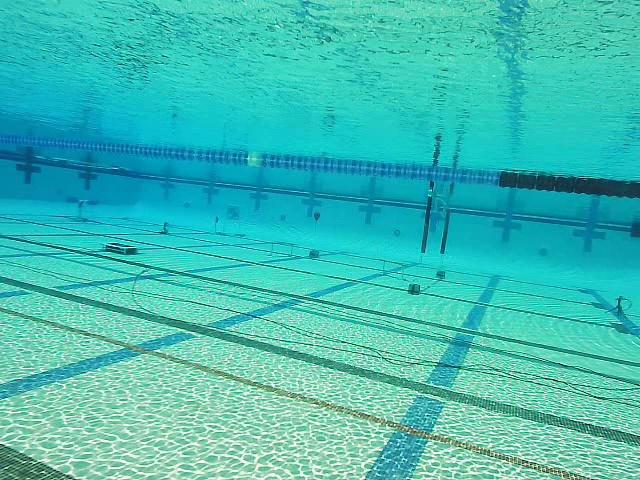dropper: (101, 239, 138, 257)
gate_leg_l: (420, 178, 434, 253)
gate_leg_r: (440, 209, 450, 254)
torpedo: (226, 203, 240, 221)
